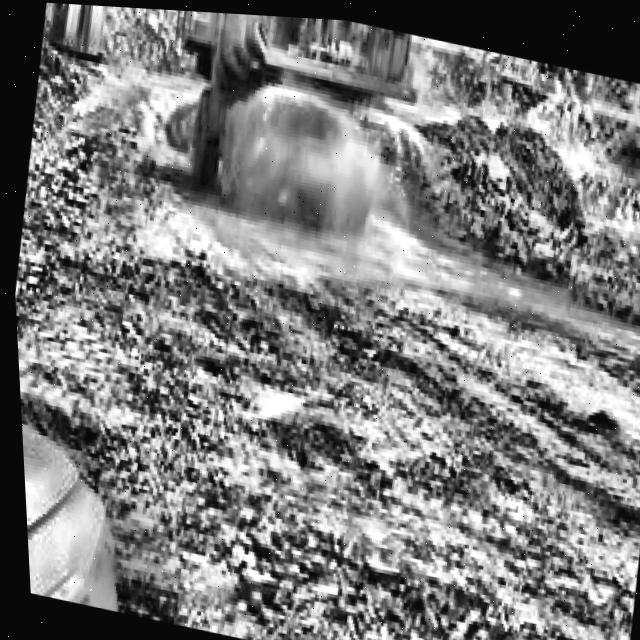dump_truck: (158, 7, 422, 240)
